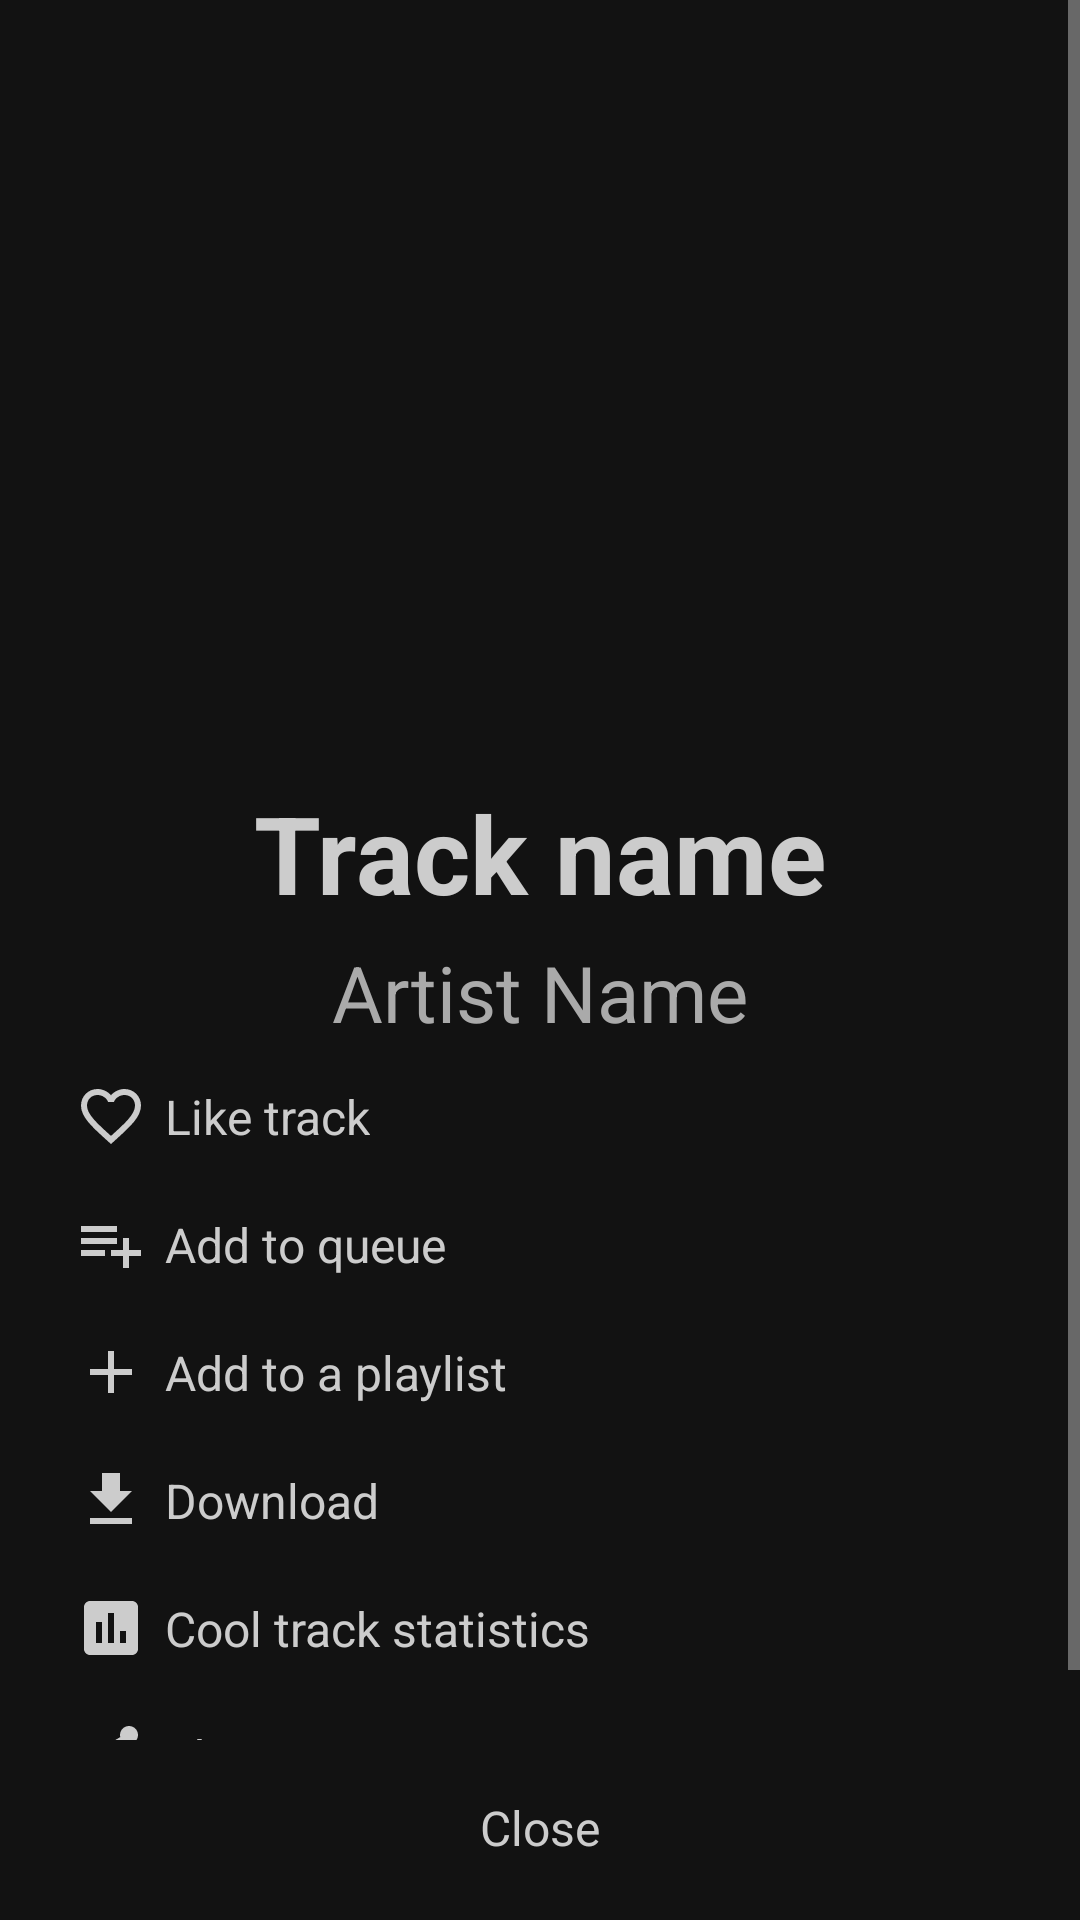

Where to tap for icons on this 1080*1920 app screen, as (x,y):
chart: (111,1628)
favorite unfilled: (111,1116)
